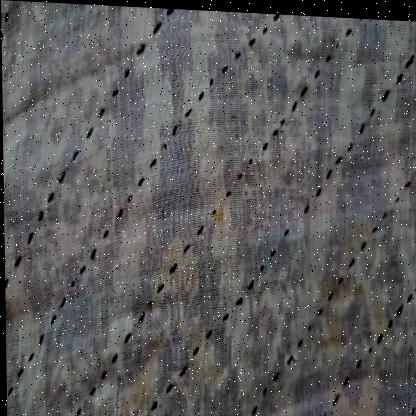spot: (208, 193, 224, 229)
